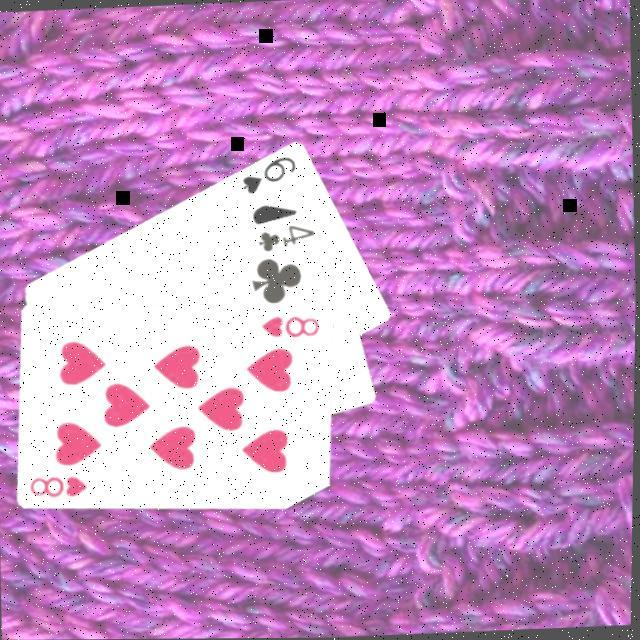4C: (253, 220, 318, 256)
6S: (238, 153, 300, 198)
8H: (27, 472, 92, 502), (258, 312, 322, 342)
